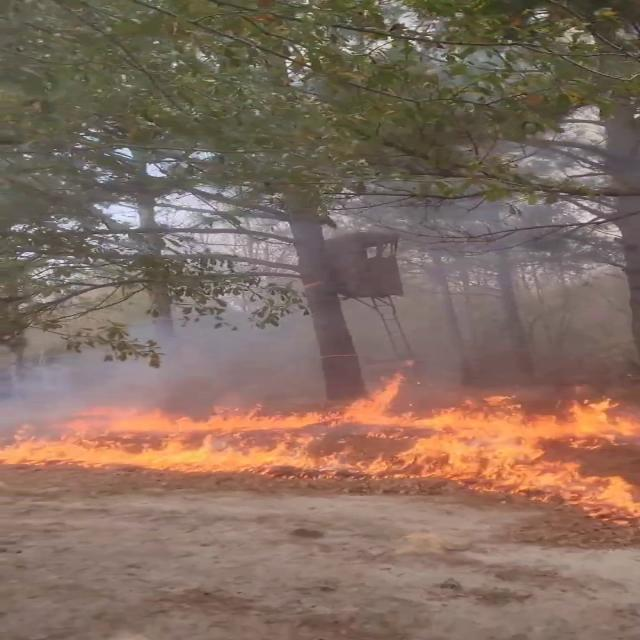Fire: (2, 380, 640, 464), (482, 443, 640, 528)
Smoke: (3, 236, 640, 413)
